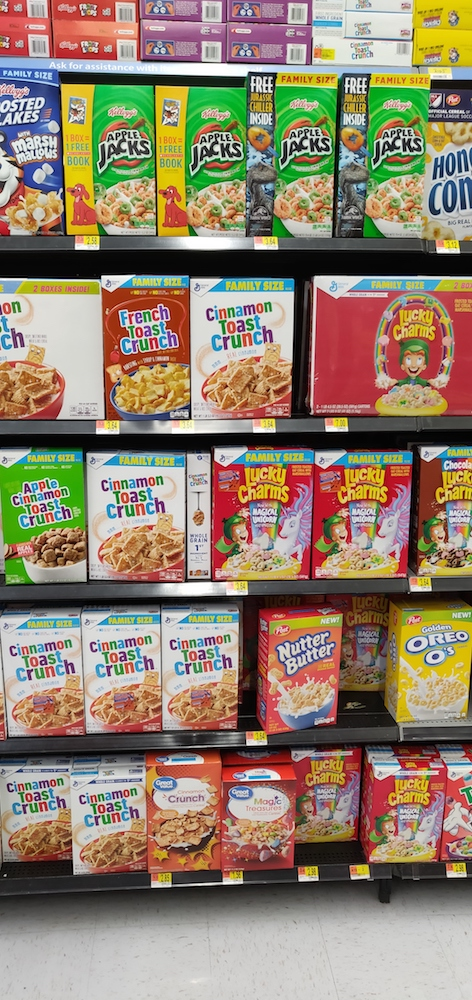Nutter Butter-565717511: (262, 609, 337, 726)
Oreo Golden-568301011: (392, 596, 470, 729)
